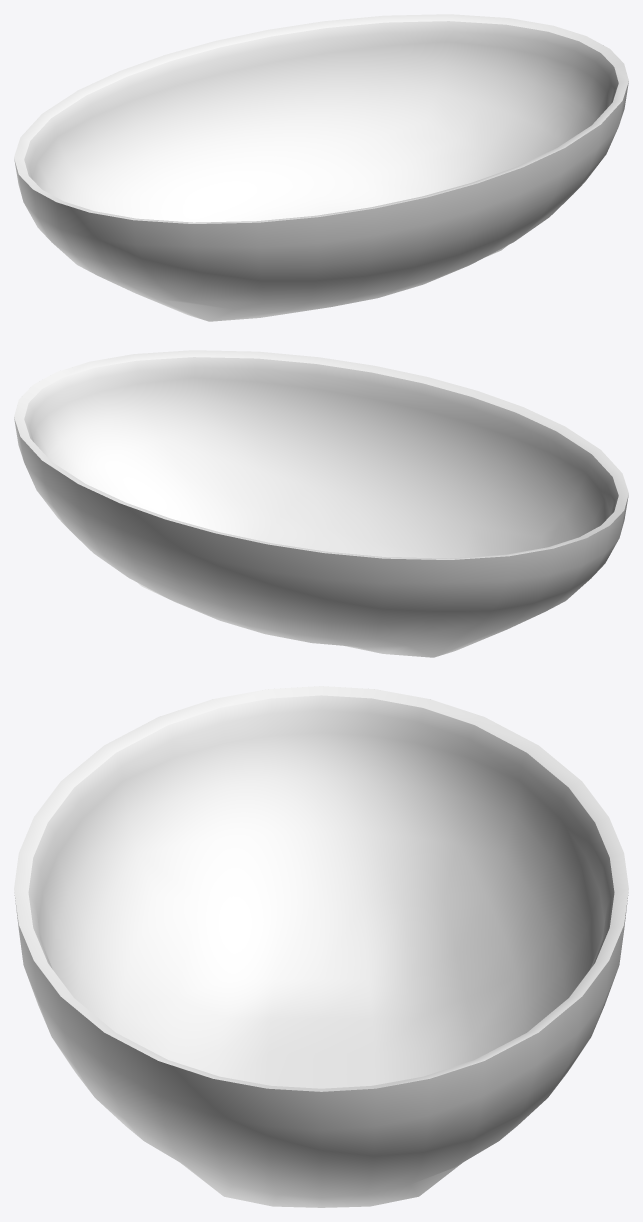
Rendered from LP_platter.obj.
3 renders of one model, top to bottom at view 1: azimuth 30°, elevation 25°; view 2: azimuth 150°, elevation 25°; view 3: azimuth 270°, elevation 25°, orthographic. The views are drawn at different scales.
Visible parts, largest first — view 1: LP_platter.001; view 2: LP_platter.001; view 3: LP_platter.001.
Part boxes in pixels (left/top/right/bottom): LP_platter.001: left=14, top=14, right=628, bottom=321; LP_platter.001: left=14, top=350, right=628, bottom=657; LP_platter.001: left=14, top=686, right=628, bottom=1207.
Size of the model in its own units: 0.2514 by 0.063 by 0.161.
